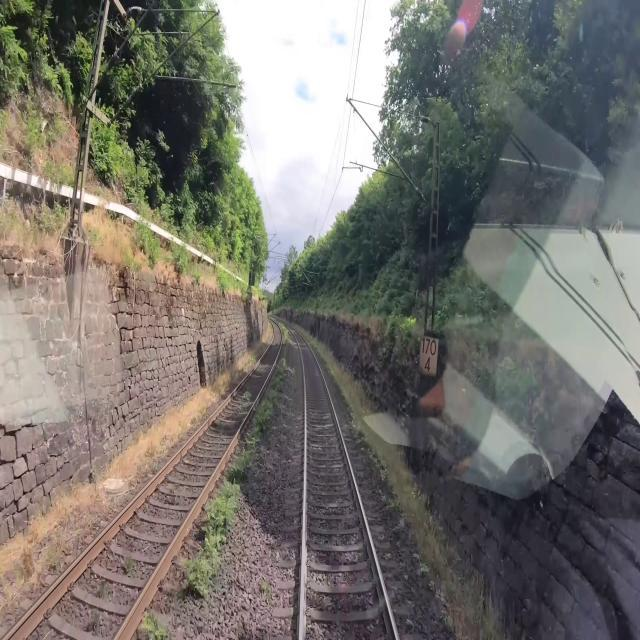Plant: (308, 333, 500, 639), (176, 358, 289, 598), (141, 611, 171, 639), (89, 612, 100, 634), (258, 579, 268, 594), (124, 554, 133, 569)
